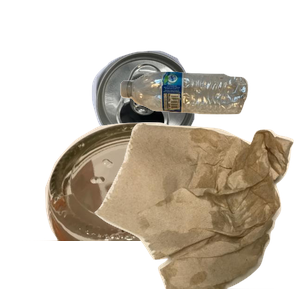glass: (22, 120, 233, 300)
metal: (89, 48, 276, 192)
plastic: (118, 69, 300, 176)
trash: (92, 120, 300, 300)
